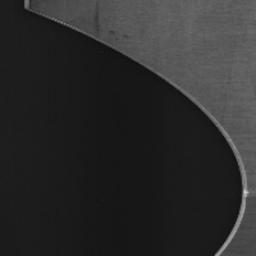Crescent gap: (24, 7, 242, 256)
